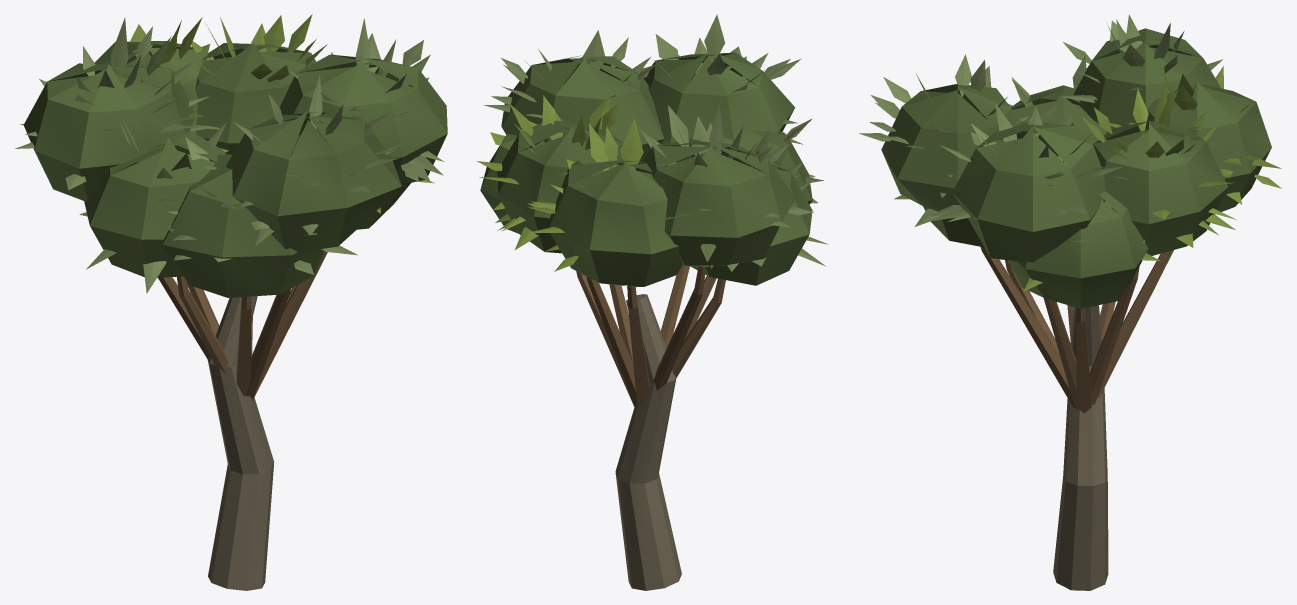
File: olive-tree.glb
3 renders of one model, left to right at view 1: azimuth 30°, elevation 25°; view 2: azimuth 150°, elevation 25°; view 3: azimuth 270°, elevation 25°, orthographic. The views are drawn at different scales.
Parts seen in each view (by area): view 1: olive-tree; view 2: olive-tree; view 3: olive-tree.
Part boxes in pixels (x1=…): olive-tree: x1=15, y1=14, x2=447, y2=590; olive-tree: x1=477, y1=14, x2=828, y2=590; olive-tree: x1=859, y1=14, x2=1281, y2=590.
Size of the model in its own units: 3.49 by 4.97 by 3.62.
